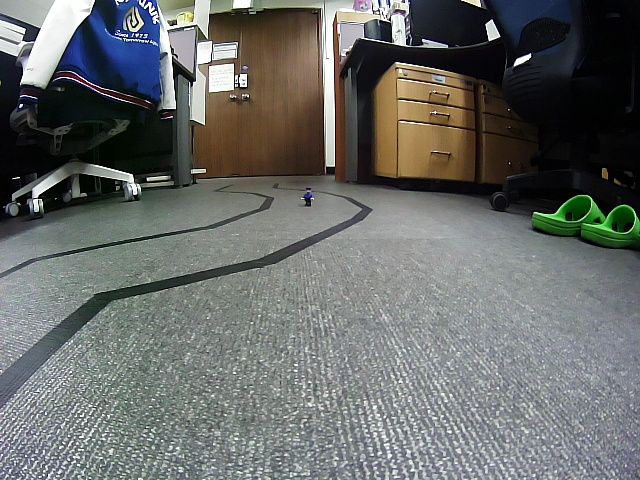person: (301, 187, 314, 207)
